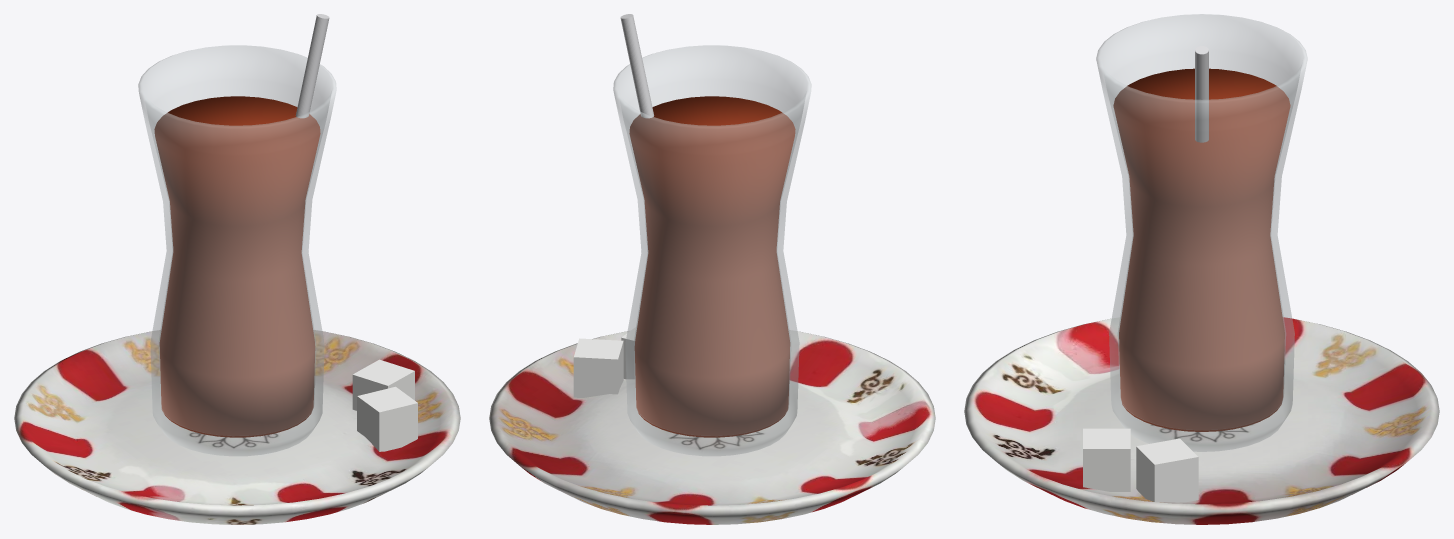
File: cay.glb
3 views of the same model, side by side, from view 1: azimuth 30°, elevation 25°; view 2: azimuth 150°, elevation 25°; view 3: azimuth 270°, elevation 25° (orthographic). The views are drawn at different scales.
Parts seen in each view (by area): view 1: glass, saucer, tea, Cube, Cube.001, spoon; view 2: glass, saucer, tea, Cube.001, spoon, Cube; view 3: glass, saucer, tea, Cube.001, Cube, spoon.
Boxes of the visible parts, x1=… form: glass: x1=138, y1=45, x2=336, y2=456; saucer: x1=14, y1=330, x2=460, y2=524; tea: x1=154, y1=96, x2=320, y2=437; Cube: x1=357, y1=386, x2=417, y2=451; Cube.001: x1=352, y1=359, x2=414, y2=410; spoon: x1=295, y1=14, x2=329, y2=118; glass: x1=613, y1=45, x2=811, y2=456; saucer: x1=489, y1=330, x2=935, y2=524; tea: x1=629, y1=96, x2=795, y2=437; Cube.001: x1=573, y1=338, x2=623, y2=397; spoon: x1=620, y1=14, x2=654, y2=118; Cube: x1=621, y1=327, x2=636, y2=379; glass: x1=1096, y1=14, x2=1307, y2=451; saucer: x1=964, y1=317, x2=1439, y2=524; tea: x1=1113, y1=68, x2=1290, y2=431; Cube.001: x1=1136, y1=438, x2=1198, y2=502; Cube: x1=1083, y1=428, x2=1130, y2=491; spoon: x1=1195, y1=46, x2=1208, y2=142.
Size of the model in its own units: 0.11 by 0.1139 by 0.11.
Materials: 5 (1 with a texture image).
